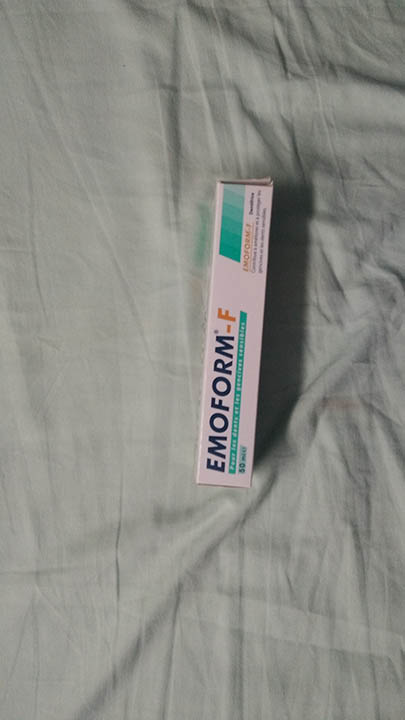Toothpaste-F 1.5$: (205, 169, 279, 493)
